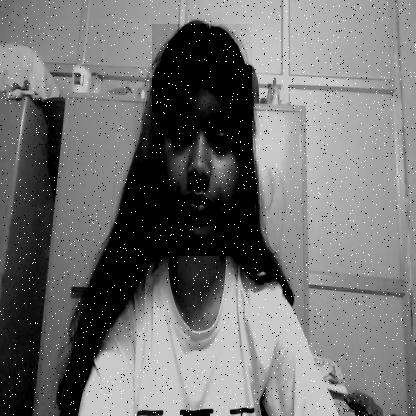Normal: (152, 24, 252, 256)
